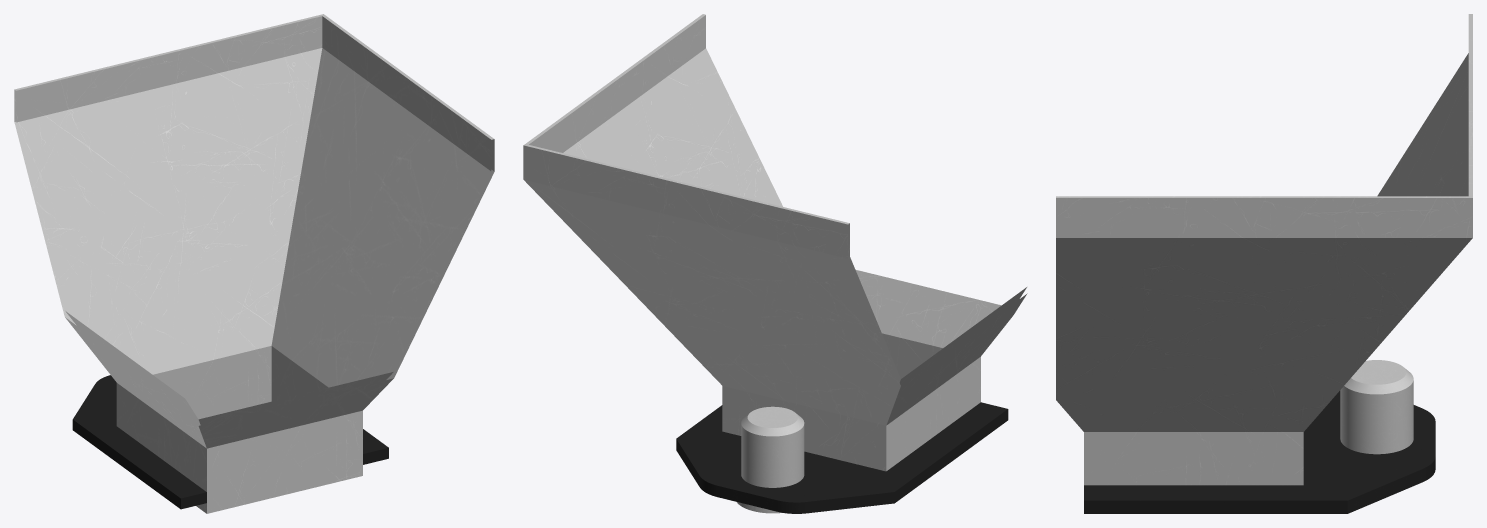
File: TightenerStation_Cube06.glb
3 views of the same model, side by side, from view 1: azimuth 30°, elevation 25°; view 2: azimuth 150°, elevation 25°; view 3: azimuth 270°, elevation 25° (orthographic). The views are drawn at different scales.
Parts seen in each view (by area): view 1: color-2.003; view 2: color-2.003; view 3: color-2.003.
Boxes of the visible parts, x1=… form: color-2.003: x1=14, y1=14, x2=494, y2=513; color-2.003: x1=523, y1=14, x2=1027, y2=513; color-2.003: x1=1056, y1=14, x2=1472, y2=513.
Bounding box in the file's own units: 0.2972 × 0.29 × 0.2845.
2 materials, 2 textured.
